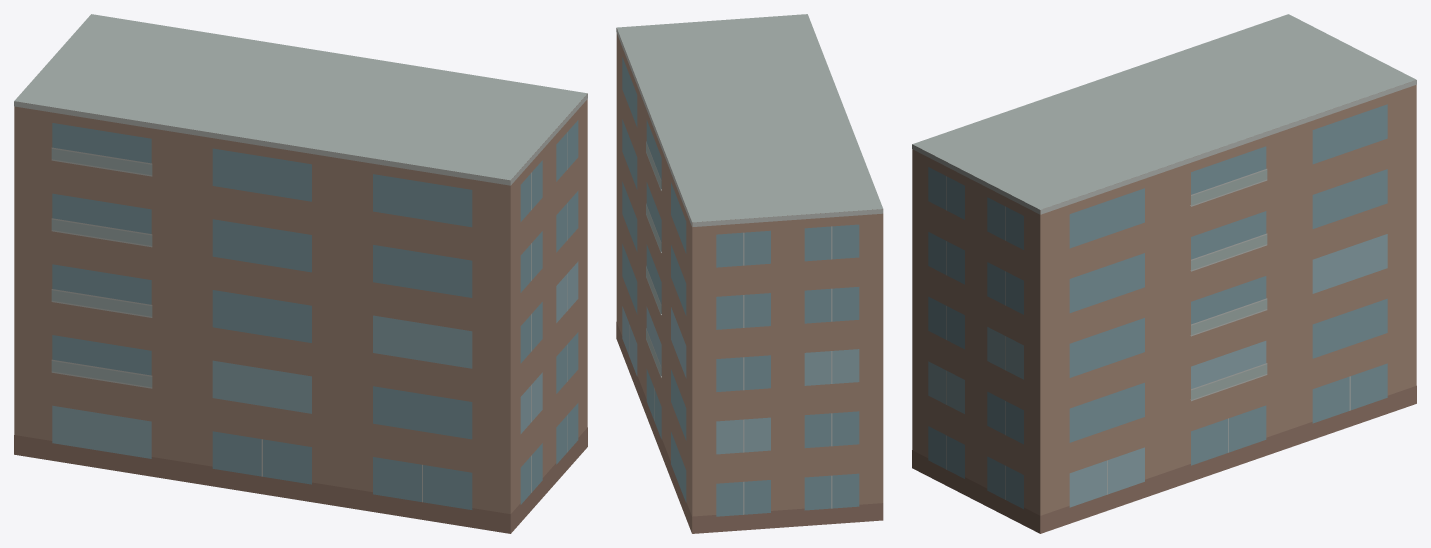
File: survey-upis-32754534.glb
The picture shows the model from 3 angles, left to right: view 1: azimuth 30°, elevation 25°; view 2: azimuth 150°, elevation 25°; view 3: azimuth 270°, elevation 25°; orthographic projection. The views are drawn at different scales.
Parts seen in each view (by area): view 1: survey-upis-32754534.tmp; view 2: survey-upis-32754534.tmp; view 3: survey-upis-32754534.tmp.
Part boxes in pixels (box(x1,y1,x2,y2)): survey-upis-32754534.tmp: box(14, 14, 587, 533); survey-upis-32754534.tmp: box(616, 14, 883, 533); survey-upis-32754534.tmp: box(912, 14, 1416, 533).
Bounding box in the file's own units: 21.02 × 16.2 × 22.87.
